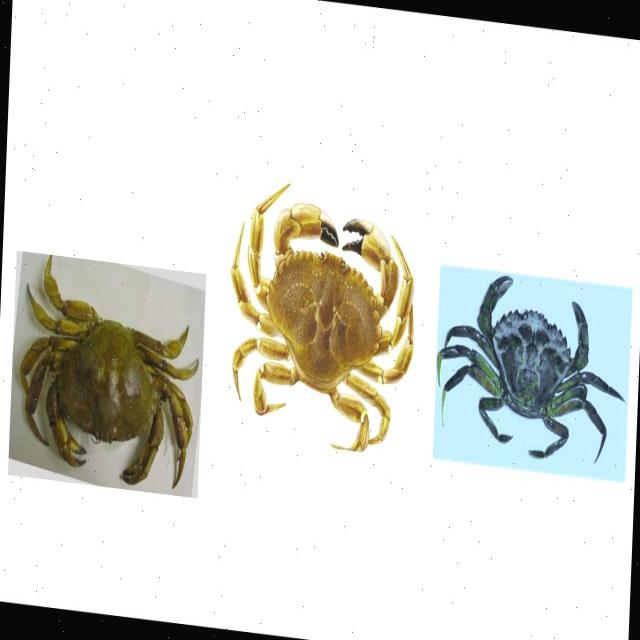egc: (438, 274, 625, 463)
